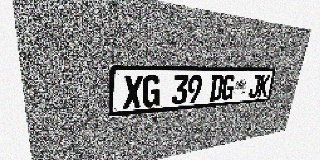3: (171, 75, 189, 105)
9: (186, 75, 203, 103)
D: (209, 75, 224, 102)
G: (142, 75, 161, 107), (221, 75, 236, 100)
J: (248, 75, 262, 98)
K: (257, 74, 271, 97)
X: (123, 75, 143, 109)
